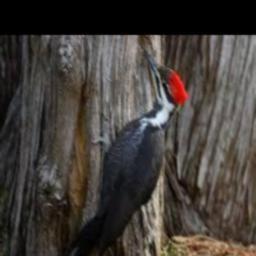Woodpecker: (63, 46, 189, 256)
